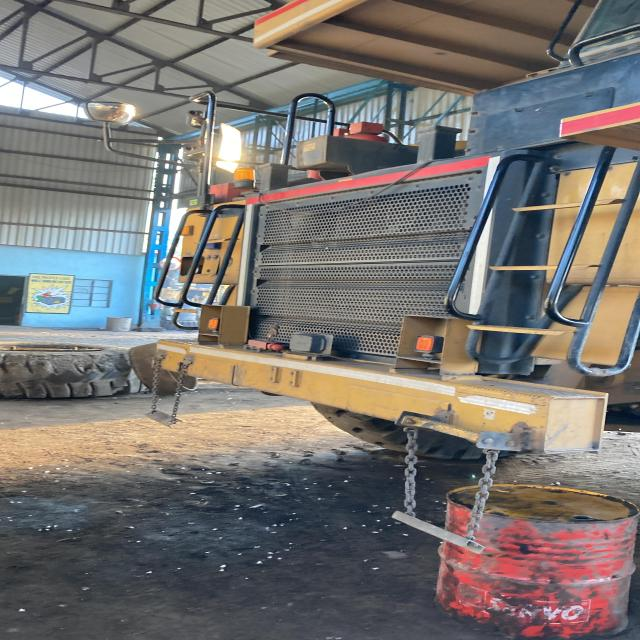dump_truck: (161, 0, 640, 554)
